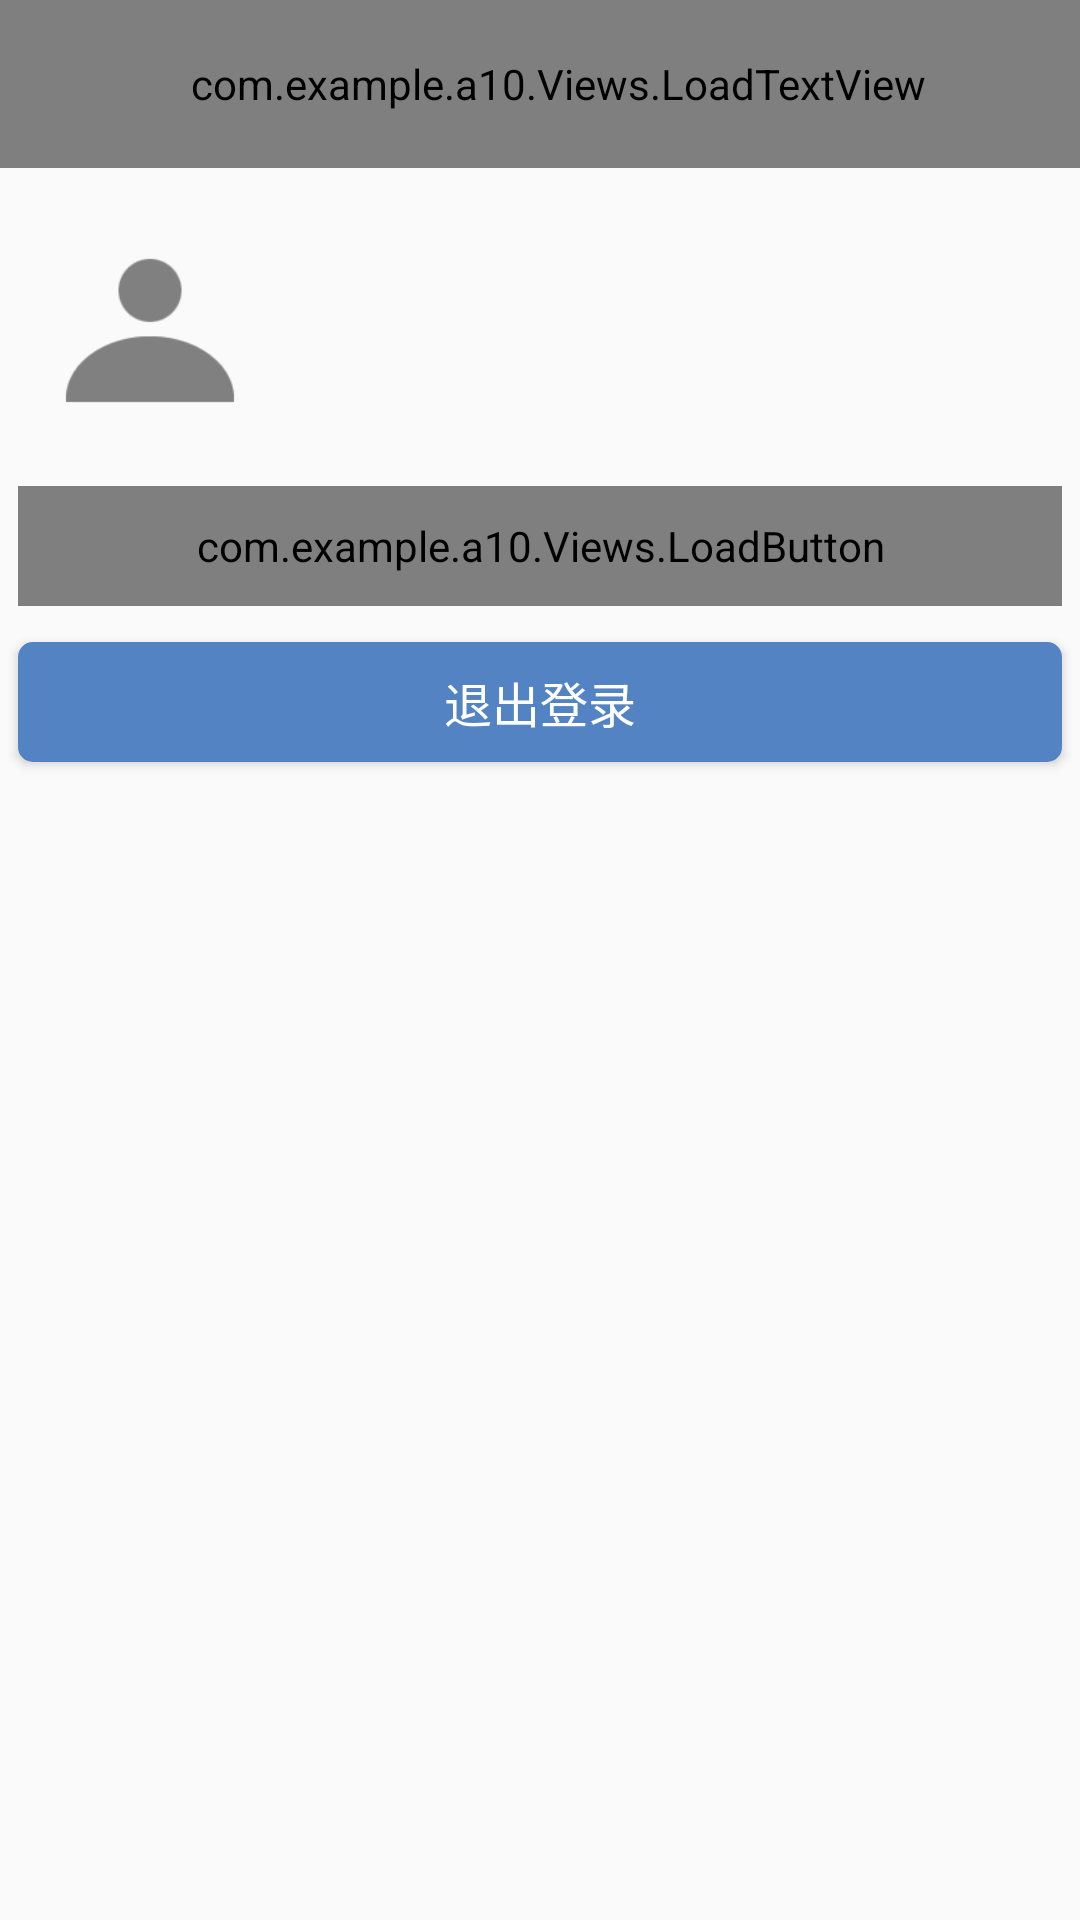

Icon click points for this 1080x1920 phone screenshot, format (x=x, y=y):
personal: (x=150, y=330)
